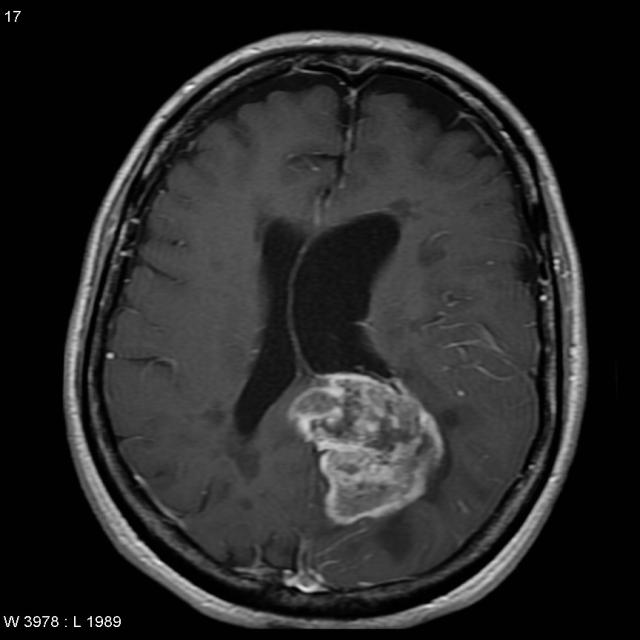Tumor-Cell: (297, 367, 416, 509)
